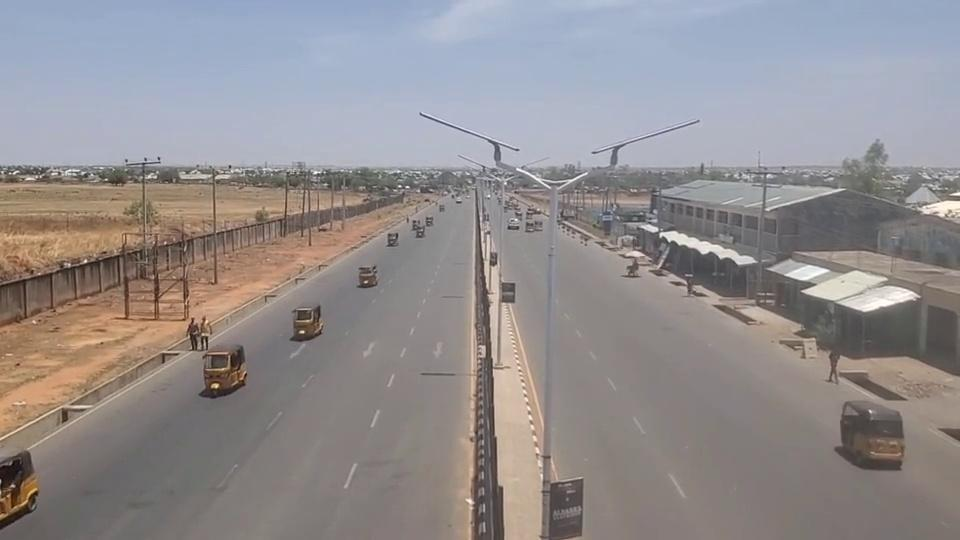keke: (839, 399, 905, 466), (0, 447, 38, 528), (201, 342, 247, 395), (291, 304, 323, 339), (357, 264, 378, 287)
